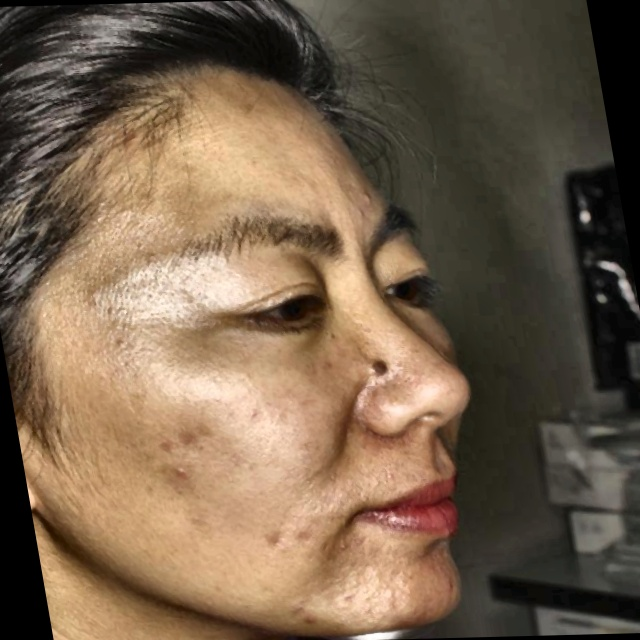comedone: (157, 453, 202, 488), (262, 522, 296, 567), (341, 182, 380, 219)
